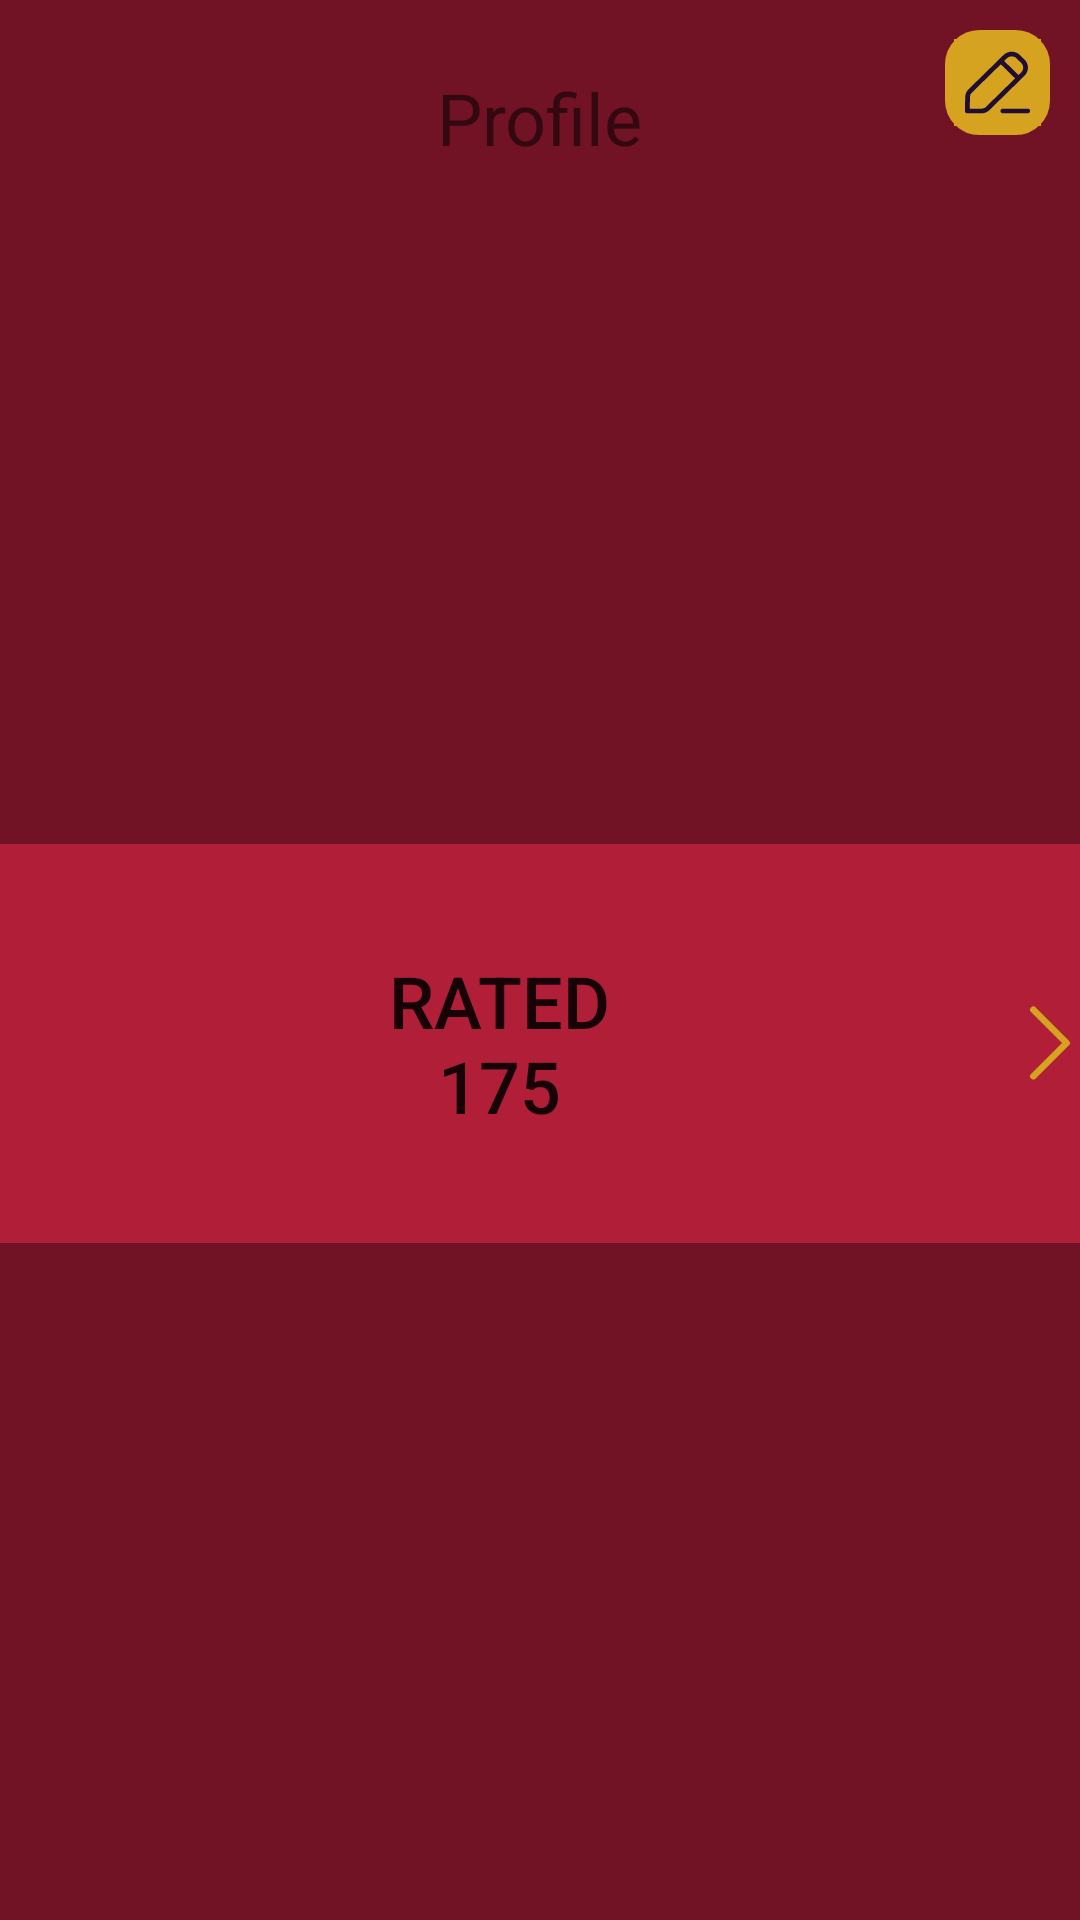

Locate icon controls on the screen. Image size 1080px x 1920px, boxes as detection(x1, y1, x2, y2).
edit: detection(945, 30, 1050, 135)
